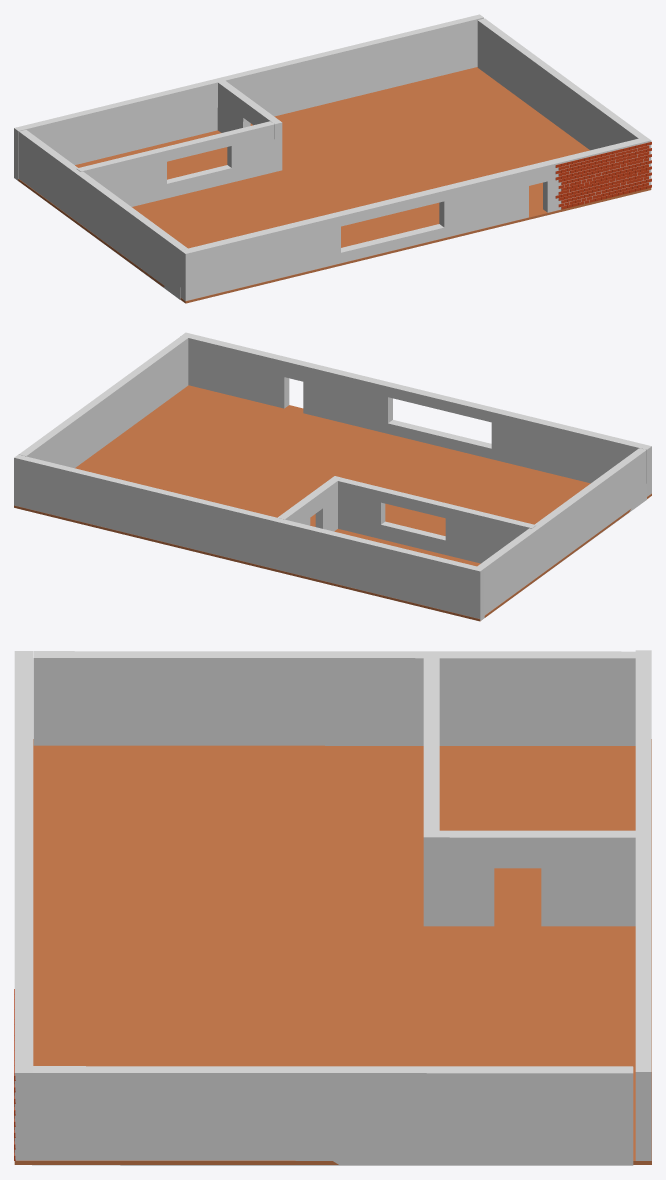
Rendered from house.fbx.
The picture shows the model from 3 angles, top to bottom: view 1: azimuth 30°, elevation 25°; view 2: azimuth 150°, elevation 25°; view 3: azimuth 270°, elevation 25°; orthographic projection. The views are drawn at different scales.
Visible parts, largest first — view 1: Grid.001, Grid.002, Grid, Grid.004, Grid.006, Grid.003, Grid.005; view 2: Grid.001, Grid.002, Grid, Grid.004, Grid.006, Grid.003, Grid.005; view 3: Grid.001, Grid.003, Grid.004, Grid.005, Grid, Grid.002, Grid.006.
Part boxes in pixels (x1=…): Grid.001: x1=18, y1=67, x2=651, y2=303; Grid.002: x1=14, y1=14, x2=483, y2=180; Grid: x1=180, y1=137, x2=651, y2=300; Grid.004: x1=18, y1=130, x2=187, y2=299; Grid.006: x1=76, y1=121, x2=274, y2=206; Grid.003: x1=477, y1=18, x2=645, y2=150; Grid.005: x1=217, y1=80, x2=282, y2=171; Grid.001: x1=14, y1=385, x2=651, y2=621; Grid.002: x1=14, y1=454, x2=484, y2=620; Grid: x1=181, y1=332, x2=651, y2=496; Grid.004: x1=477, y1=448, x2=646, y2=615; Grid.006: x1=338, y1=478, x2=536, y2=563; Grid.003: x1=19, y1=336, x2=188, y2=468; Grid.005: x1=277, y1=476, x2=341, y2=531; Grid.001: x1=14, y1=739, x2=651, y2=1164; Grid.003: x1=32, y1=1066, x2=633, y2=1165; Grid.004: x1=33, y1=651, x2=635, y2=745; Grid.005: x1=423, y1=830, x2=635, y2=926; Grid: x1=14, y1=651, x2=33, y2=1160; Grid.002: x1=635, y1=650, x2=651, y2=1160; Grid.006: x1=423, y1=655, x2=439, y2=830.
Bounding box in the file's own units: 2844 × 294 × 1815.
